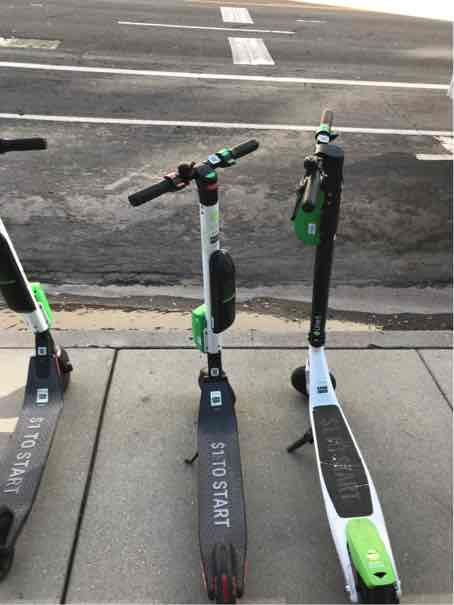scooter: (121, 122, 269, 603), (289, 99, 418, 605)
